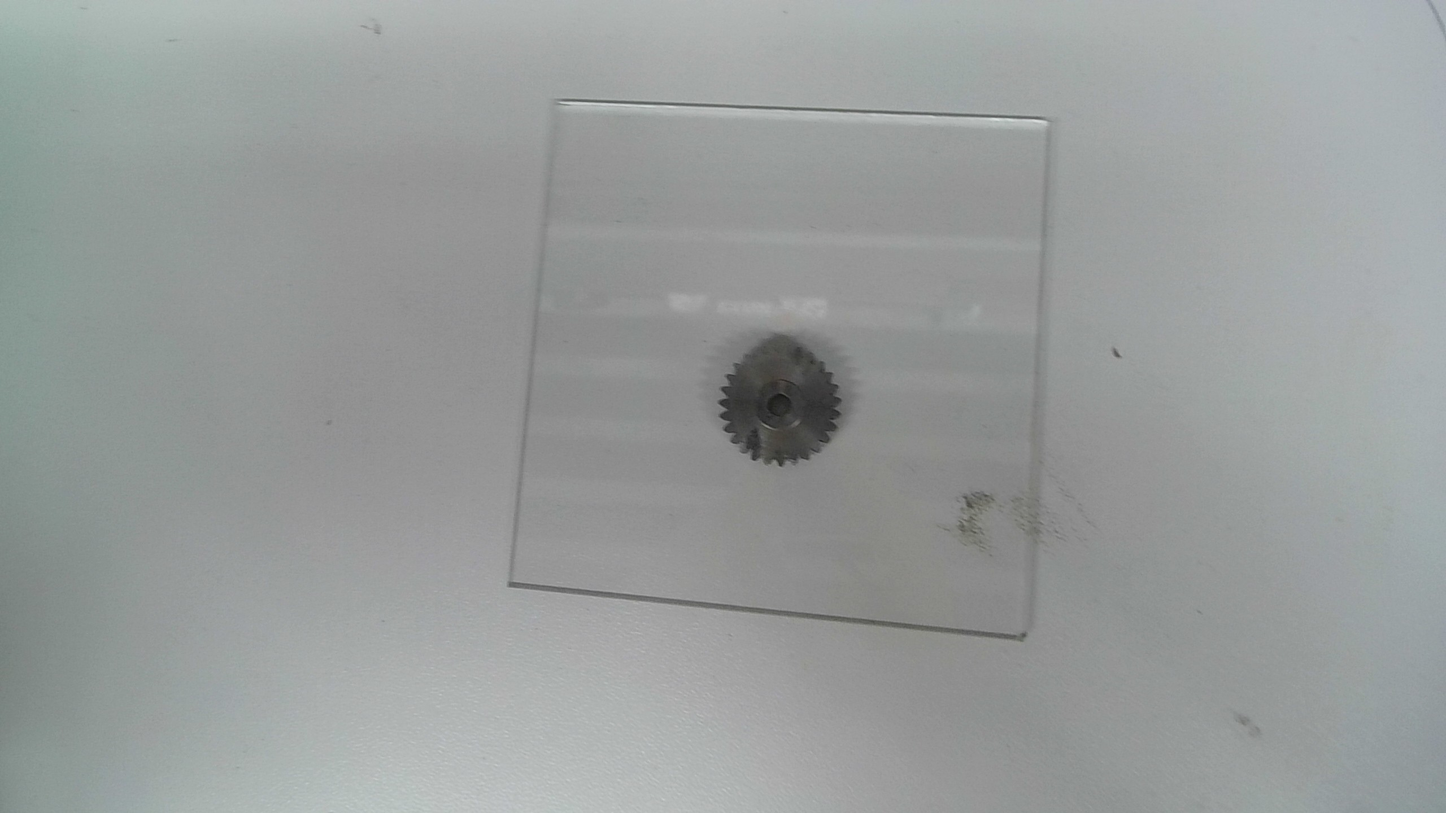gear: (716, 340, 844, 470)
